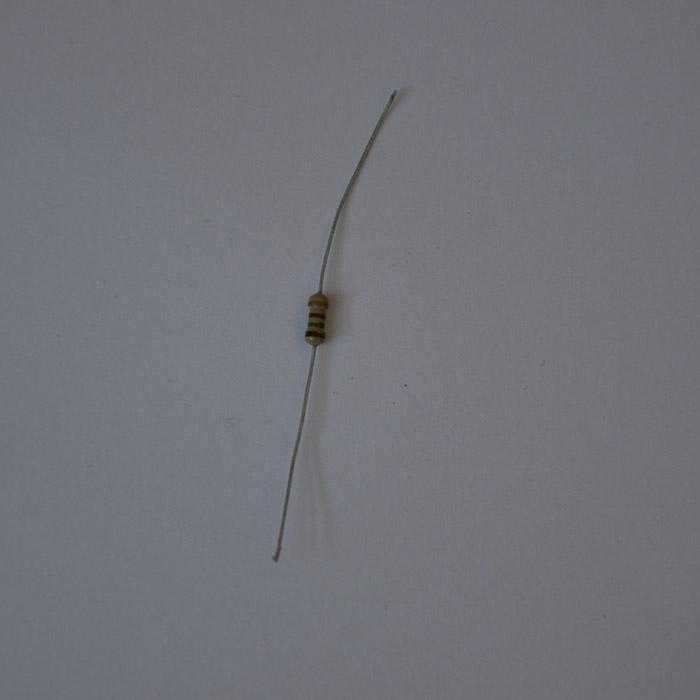resistor: (304, 291, 329, 345)
